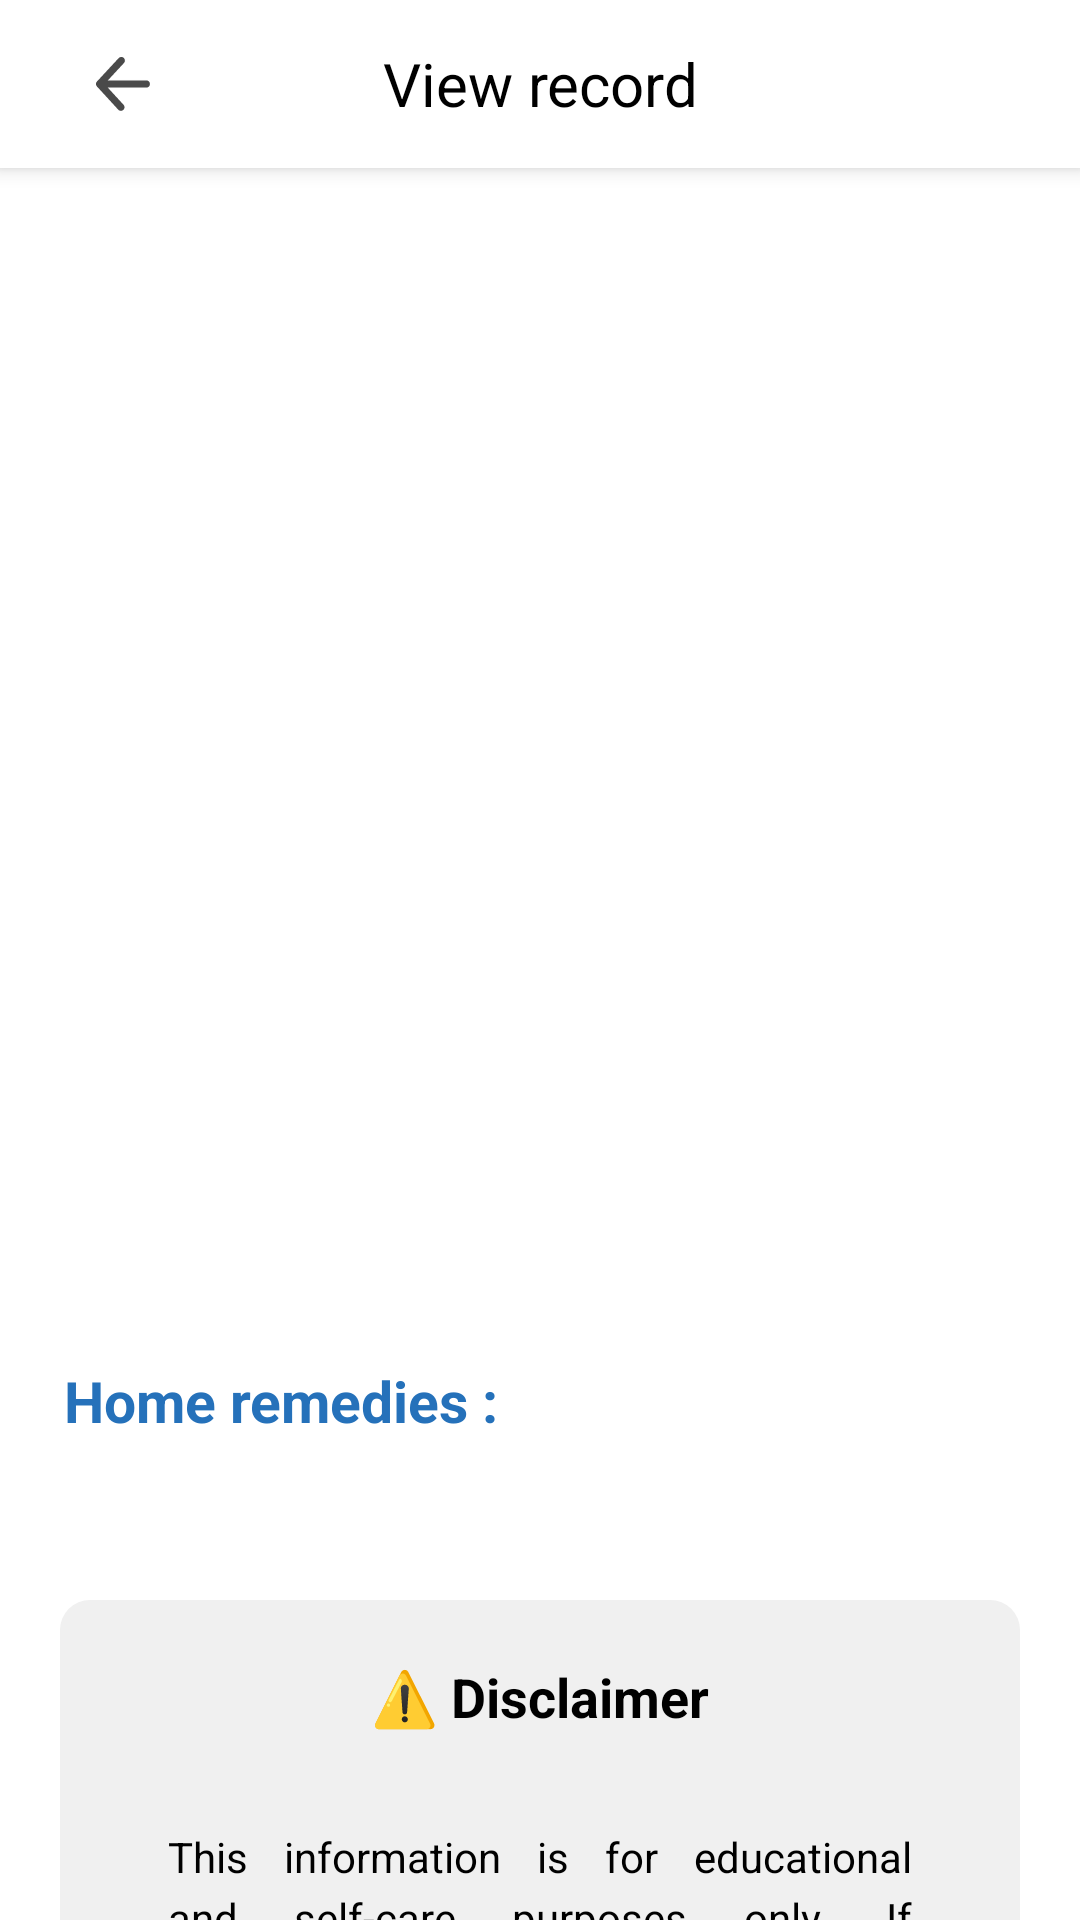

Named icons in this screenshot (1080x1920) and their bounding boxes, (x1, y1, x2, y2):
Back: (96, 57, 150, 111)
